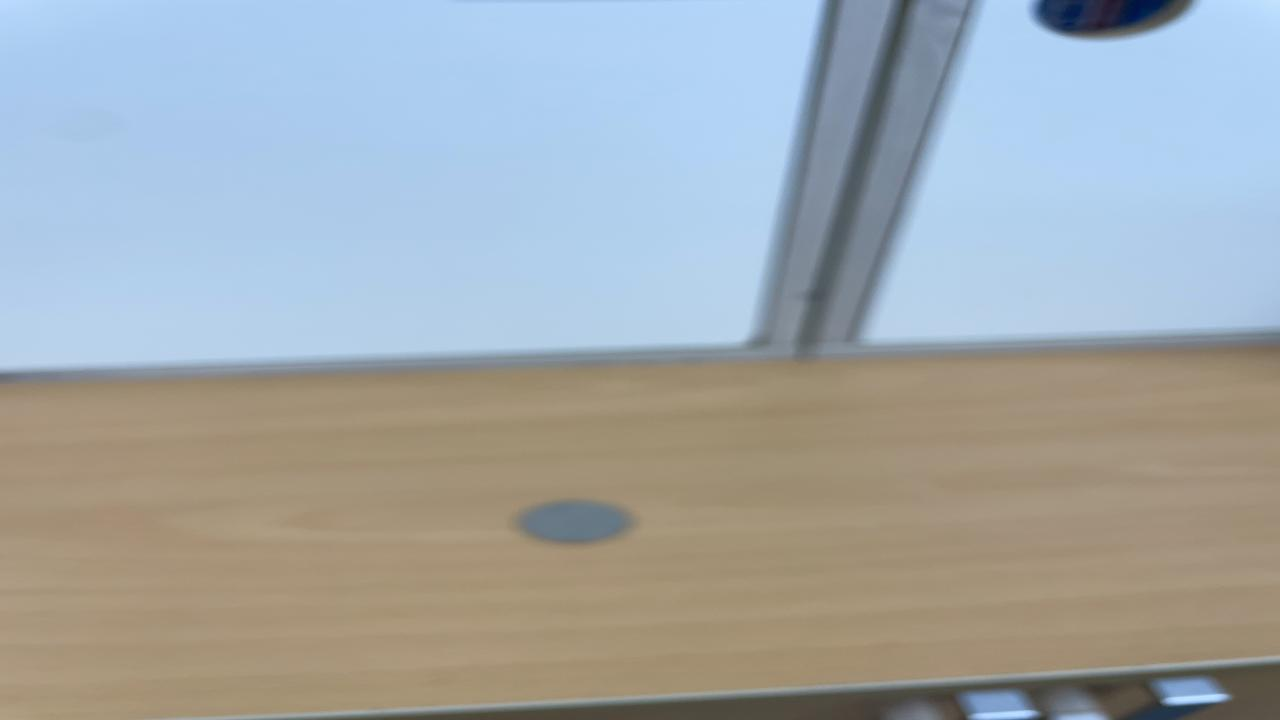coin: (1033, 0, 1199, 40), (510, 497, 642, 546)
